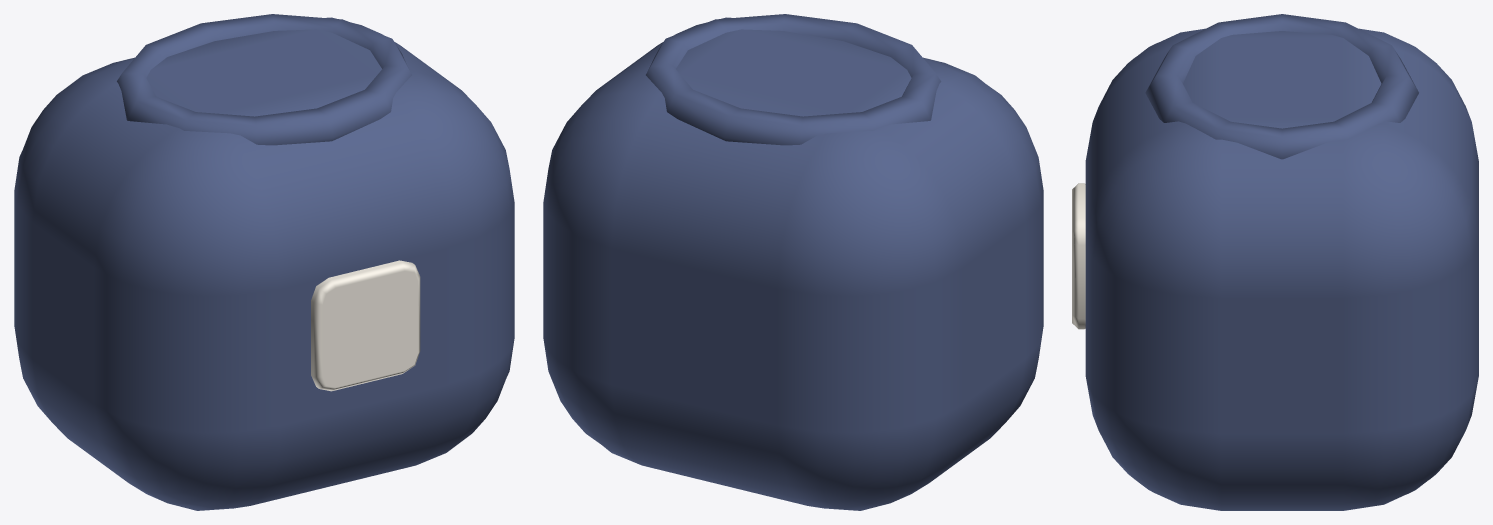
File: basketball_tank.glb
3 views of the same model, side by side, from view 1: azimuth 30°, elevation 25°; view 2: azimuth 150°, elevation 25°; view 3: azimuth 270°, elevation 25° (orthographic).
Parts seen in each view (by area): view 1: basketball_tank_Body; view 2: basketball_tank_Body; view 3: basketball_tank_Body.
Boxes of the visible parts, <box> form: basketball_tank_Body: <box>14,14,514,510</box>; basketball_tank_Body: <box>543,14,1043,510</box>; basketball_tank_Body: <box>1072,14,1478,510</box>.
Size of the model in its own units: 0.34 by 0.3119 by 0.3.
